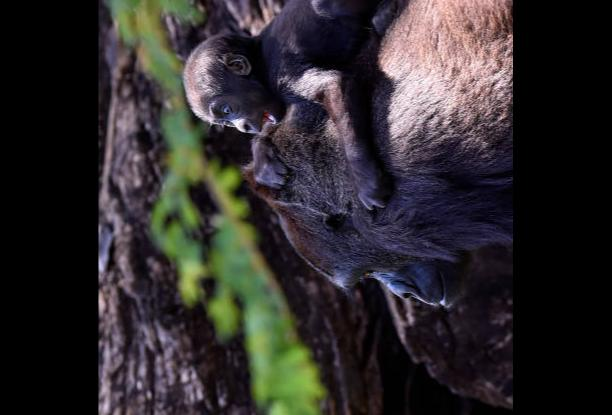gorille_Autres: (263, 0, 513, 312), (178, 0, 393, 180)
